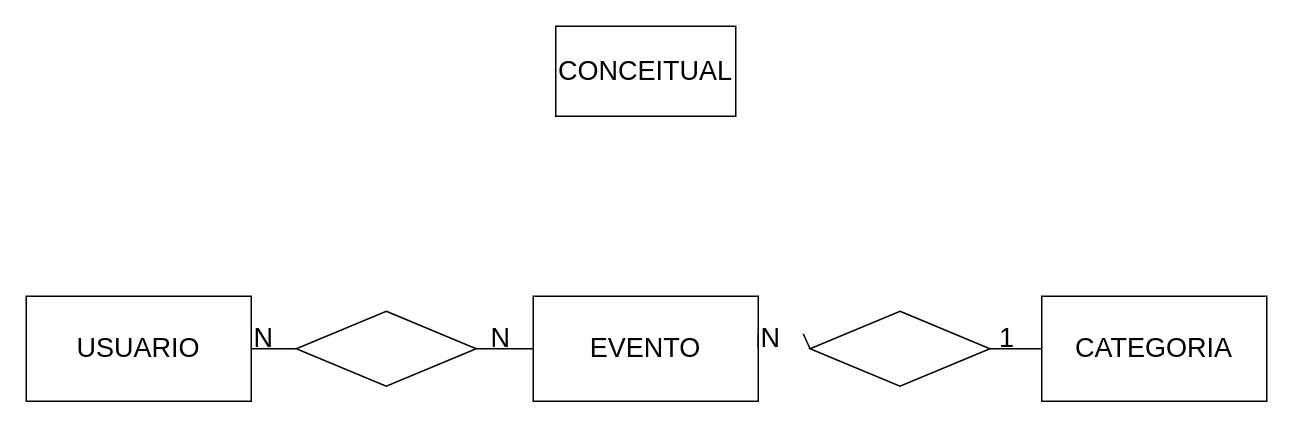
The diagram is 1293 pixels wide and 428 high, and some of its shapes have lost their labels. The centre of each missing label's shape, as x and y in pixels:
"contem" belongs at (x=899, y=348).
"participa" belongs at (x=385, y=348).
